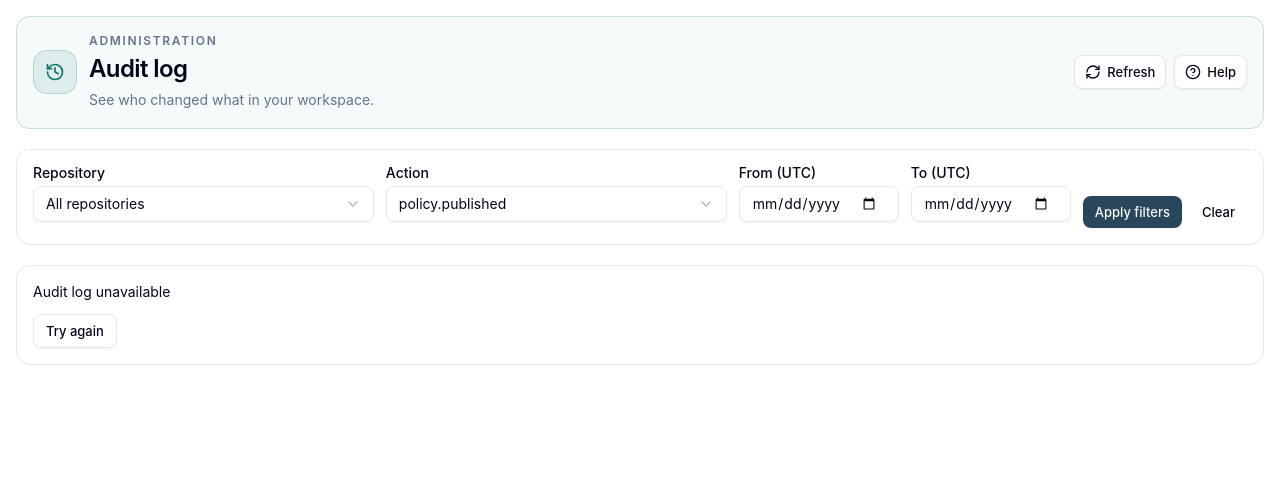
shows a retriable API error and a filtered empty result
Expected: the message shows "Audit log unavailable", [33, 283, 170, 300]
Click the button "Try again" at (75, 331), box [33, 314, 117, 348]
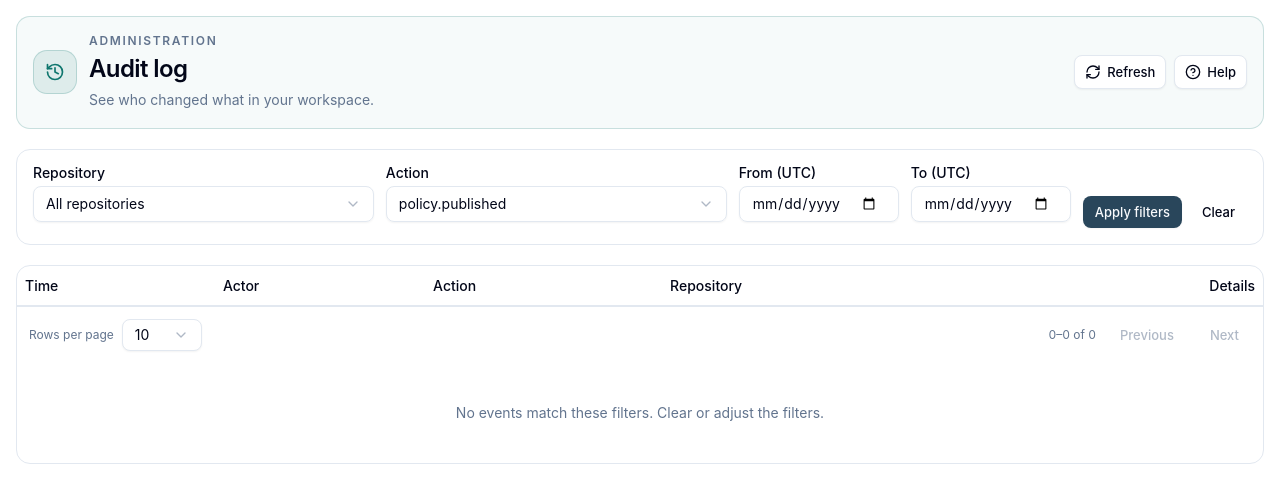
Expected: the button "Next" is disabled, [1198, 319, 1251, 351]
